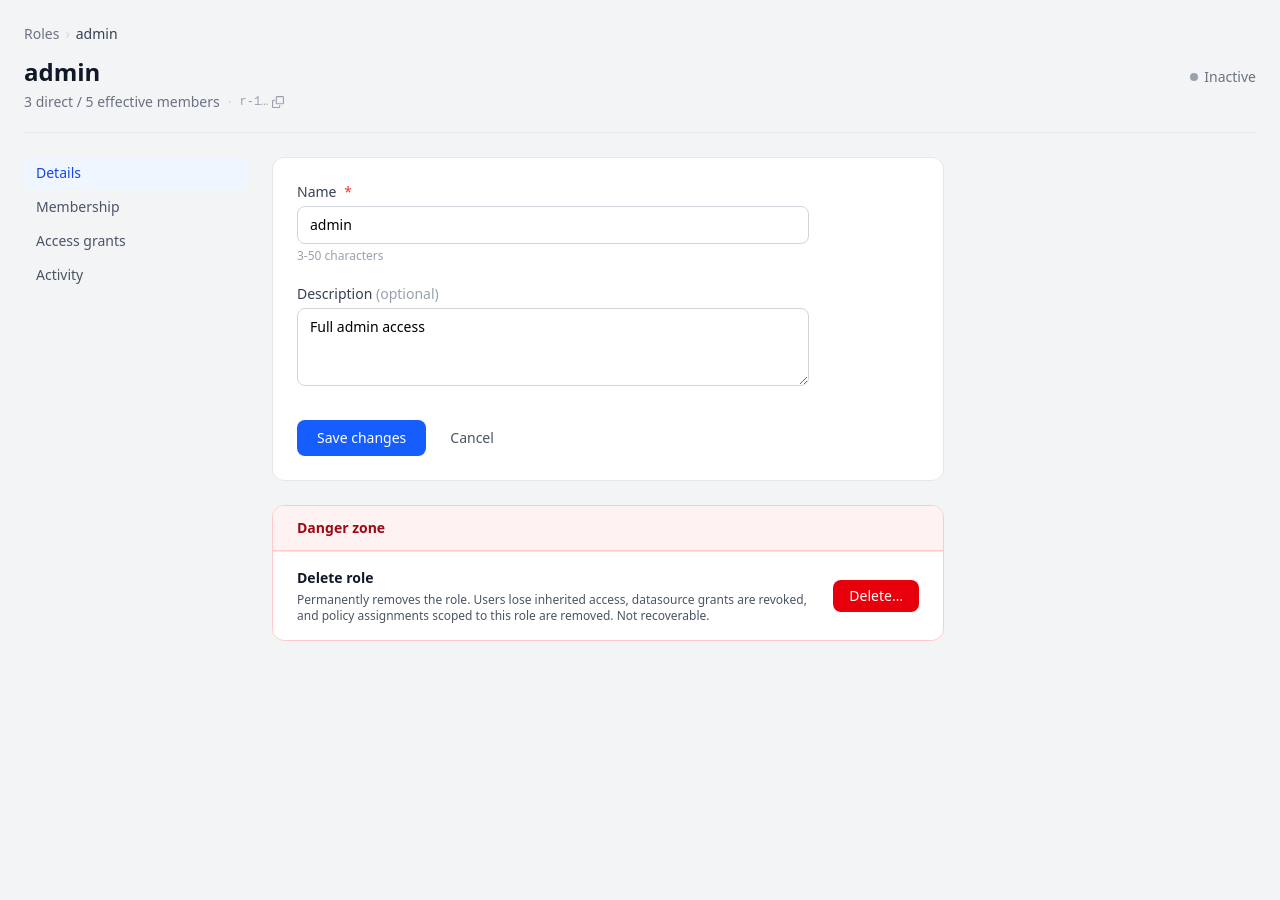
Test: RoleEditPage — danger zone › Delete button is disabled until the typed name matches
Expected: the field showing "admin" is shown, [297,206,809,244]
Click the button "Delete…".
click(876, 596)  # box [833,580,919,612]
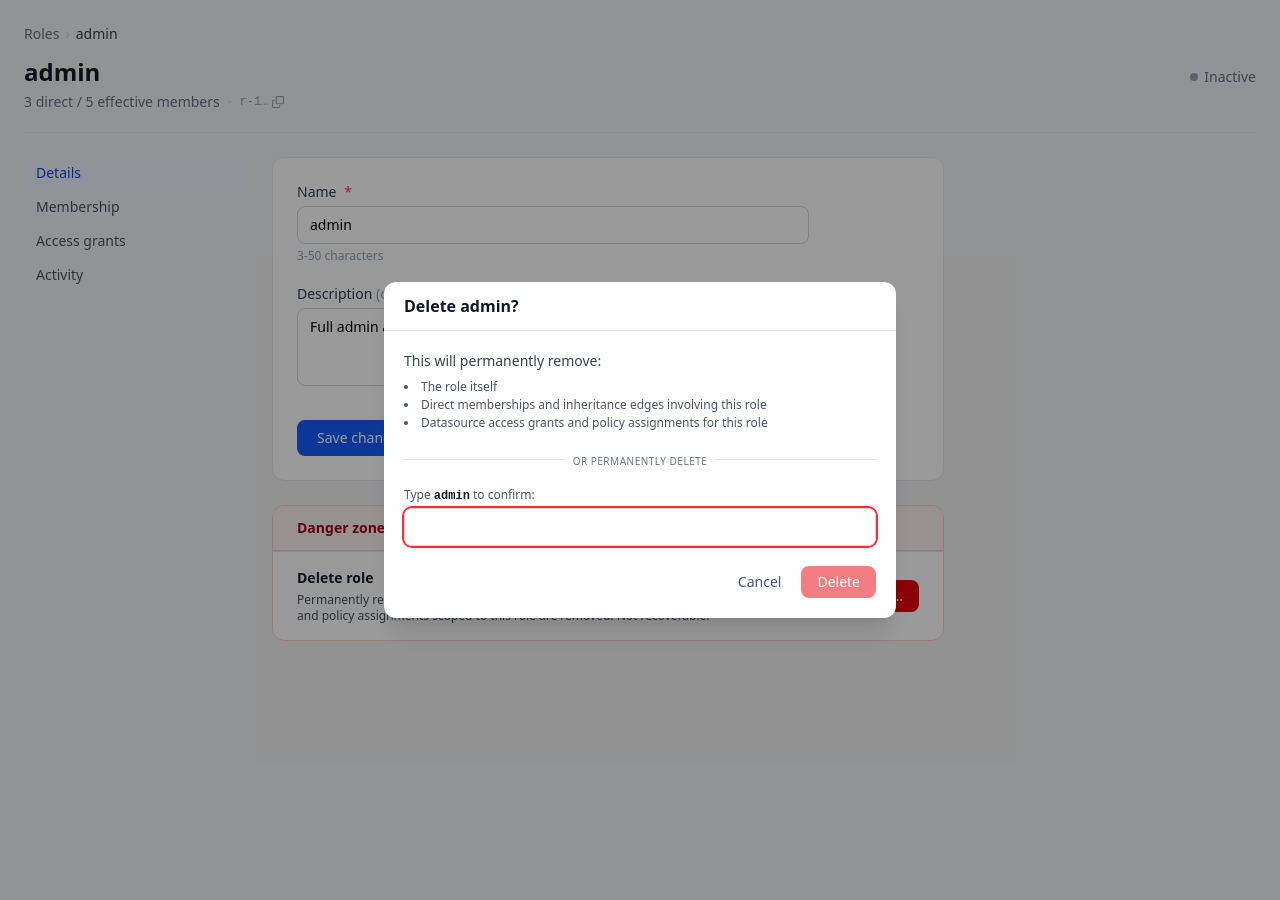
Result: the button "Delete" is disabled at [801,566,876,598]
Type "admin" into the field.
click(640, 527); type("admin")  # box [404,508,876,546]
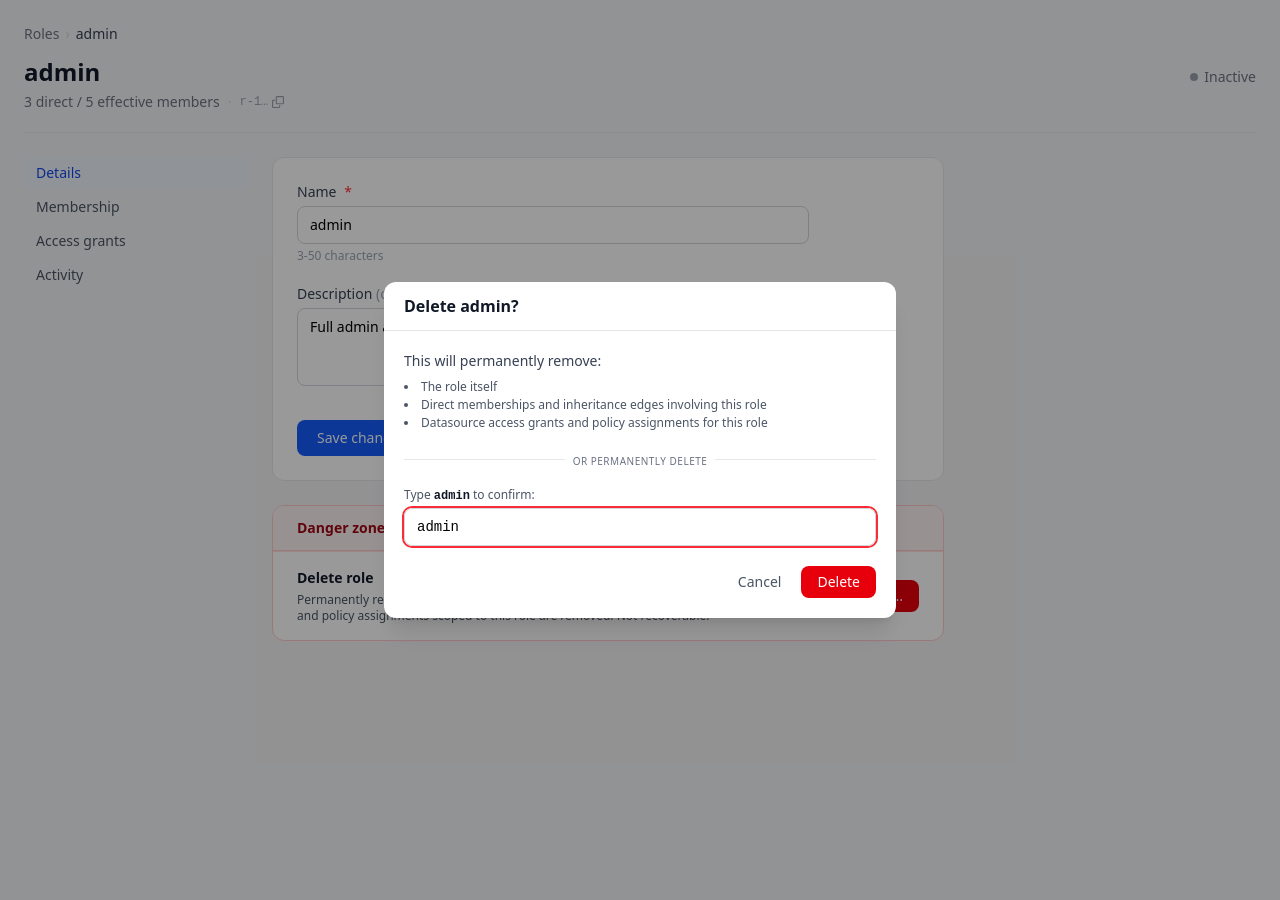
Result: the button "Delete" is enabled at [801,566,876,598]
